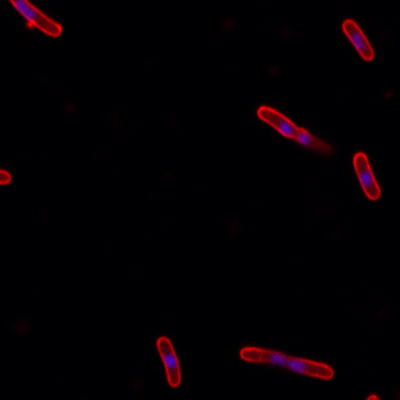Nalidixate: (339, 17, 375, 63), (350, 151, 381, 202), (154, 333, 182, 389)
Oblique: (256, 105, 334, 156), (238, 344, 334, 382)
